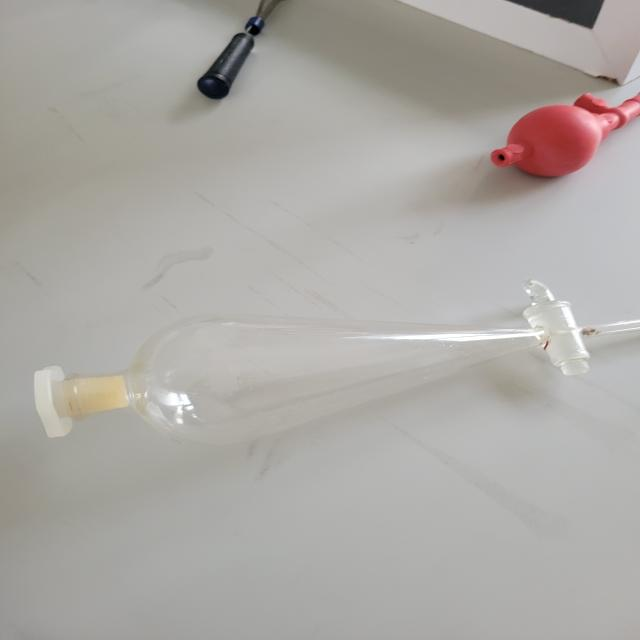Separating_Funnel: (13, 289, 640, 485)
TestTube_Holder: (168, 0, 329, 121)
Volumetric_Pipet: (455, 65, 640, 204)
